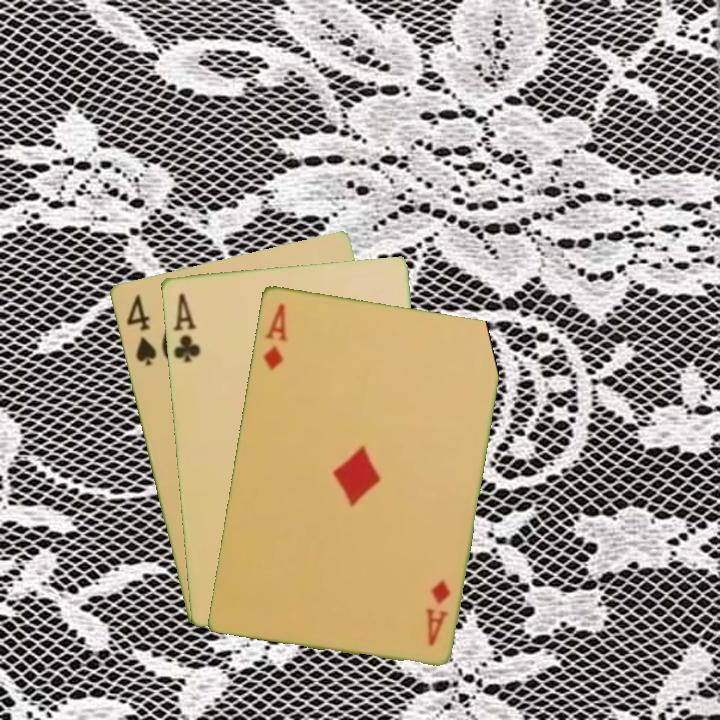4s: (122, 290, 159, 369)
Ac: (169, 289, 203, 365)
Ad: (259, 299, 291, 373), (422, 575, 453, 649)
